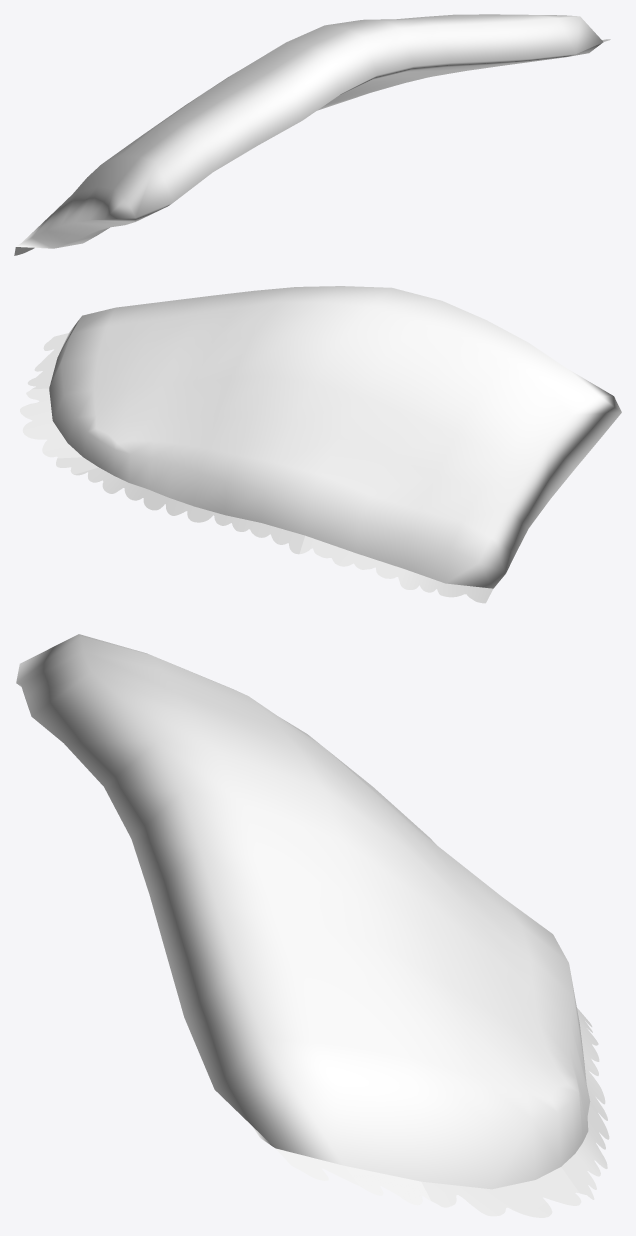
Rendered from wing new.fbx.
3 renders of one model, top to bottom at view 1: azimuth 30°, elevation 25°; view 2: azimuth 150°, elevation 25°; view 3: azimuth 270°, elevation 25°, orthographic. The views are drawn at different scales.
Visible parts, largest first — view 1: Box001.001; view 2: Box001.001; view 3: Box001.001.
Boxes of the visible parts, <box> form: Box001.001: <box>14,14,610,255</box>; Box001.001: <box>20,286,621,603</box>; Box001.001: <box>16,634,609,1217</box>.
Size of the model in its own units: 47.29 by 17.95 by 23.55.
1 material, 1 textured.
